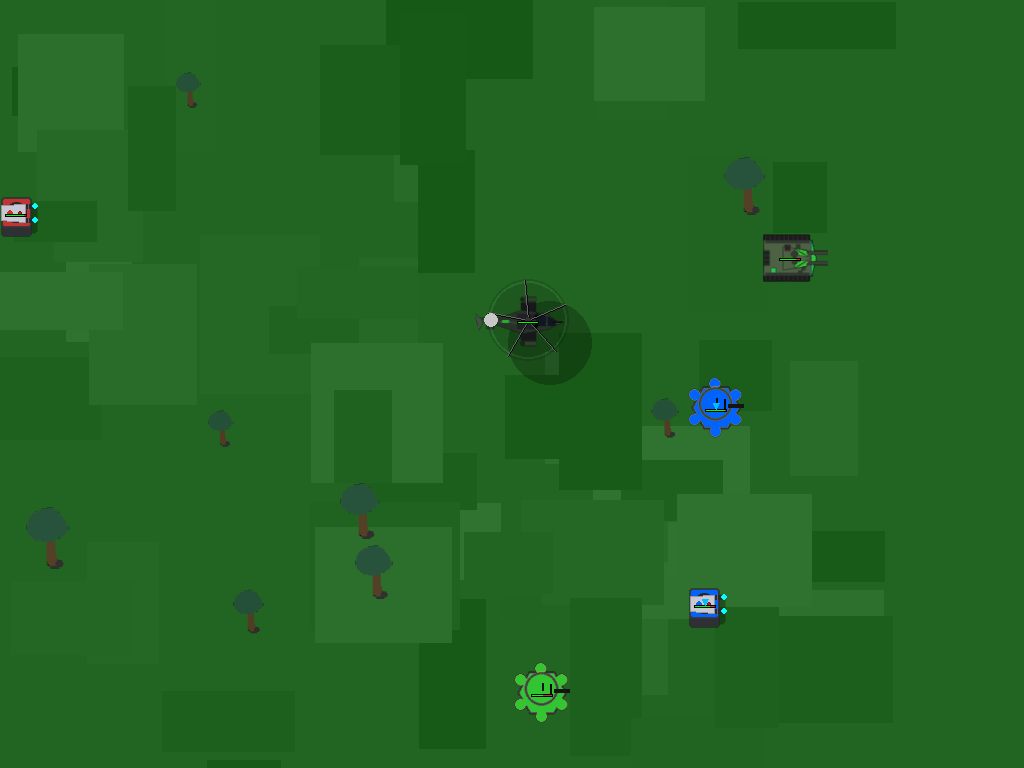AntiAirTurret: (0, 188, 49, 237), (680, 579, 729, 628)
Bunker: (684, 376, 749, 441), (509, 660, 574, 725)
Type99: (762, 230, 804, 284)
WZ10: (495, 288, 560, 353)
